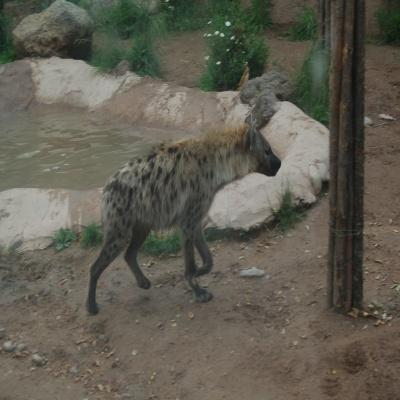hyenas: (78, 104, 293, 312)
